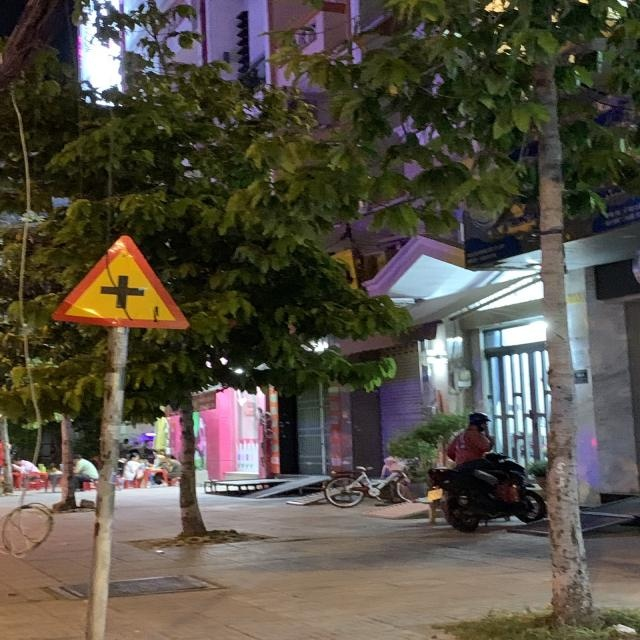bien_nguy_hiem: (50, 232, 190, 330)
